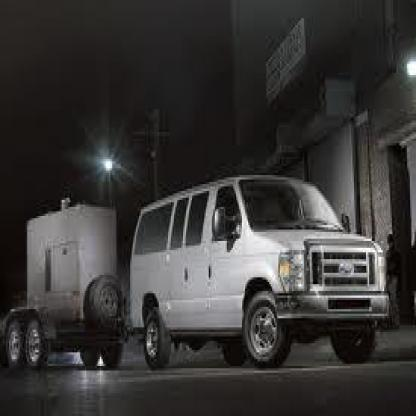Vehicle: (127, 170, 396, 382)
